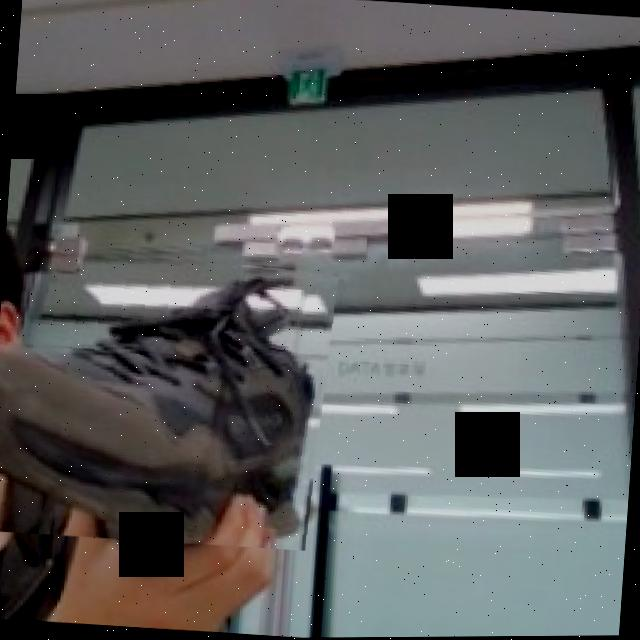shoe: (0, 236, 339, 553)
